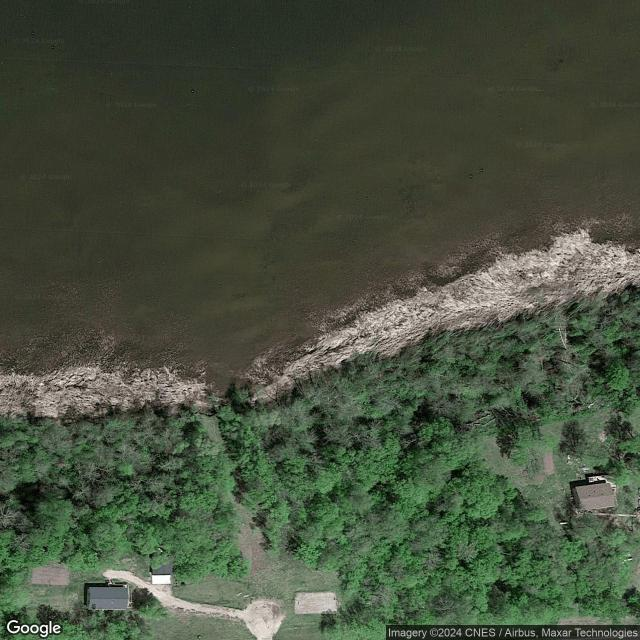Propane: (559, 521, 568, 526)
